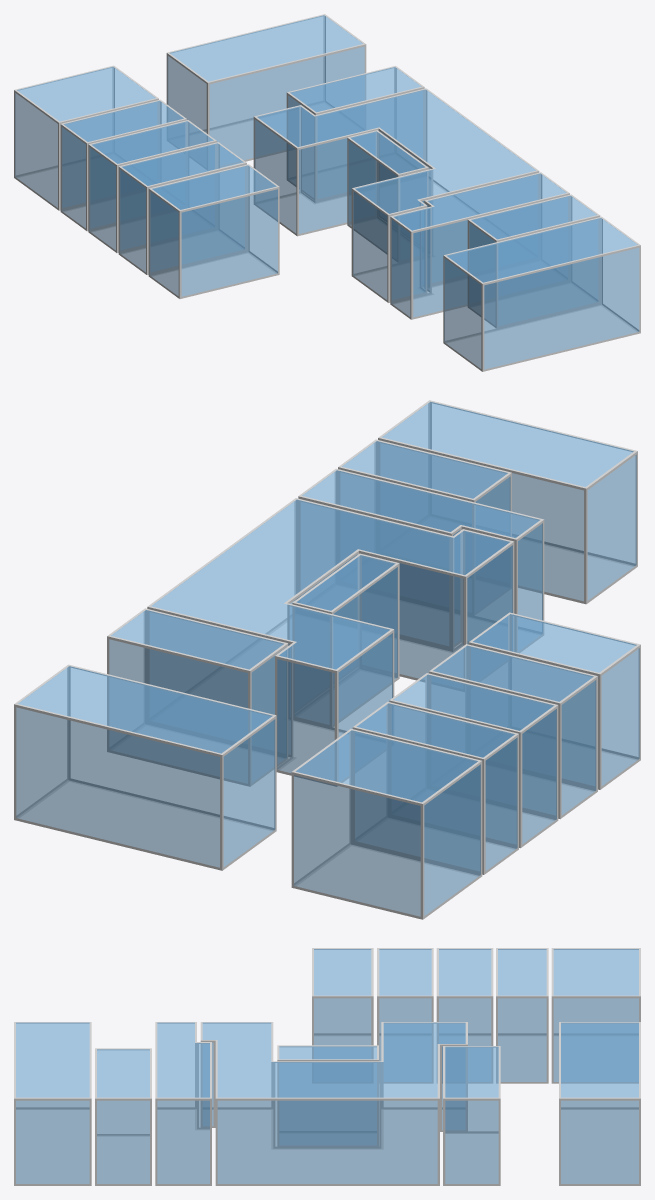
The model's file is Hospital_Selection_Boxes_SecondFloor.glb.
3 views of the same model, one above another, from view 1: azimuth 30°, elevation 25°; view 2: azimuth 150°, elevation 25°; view 3: azimuth 270°, elevation 25° (orthographic). The views are drawn at different scales.
Visible parts, largest first — view 1: Room_30, Room_33, Room_28, Room_23, Room_31, Room_32, Room_24, Room_27, Room_29, Room_25, Room_26, Room_30A; view 2: Room_30, Room_28, Room_27, Room_33, Room_31, Room_29, Room_26, Room_23, Room_24, Room_25, Room_30A, Room_32; view 3: Room_30, Room_28, Room_33, Room_27, Room_30A, Room_31, Room_29, Room_32, Room_24, Room_26, Room_23, Room_25.
Part boxes in pixels (x1,y1,x2,y2): Room_30: [253, 88, 539, 302]; Room_33: [443, 216, 640, 371]; Room_28: [166, 14, 366, 169]; Room_23: [148, 164, 279, 298]; Room_31: [390, 172, 569, 319]; Room_32: [467, 194, 600, 327]; Room_24: [118, 142, 246, 274]; Room_27: [14, 65, 158, 210]; Room_29: [286, 66, 424, 200]; Room_25: [88, 120, 216, 252]; Room_26: [60, 99, 186, 231]; Room_30A: [347, 130, 428, 261]; Room_30: [147, 498, 514, 786]; Room_28: [14, 664, 276, 870]; Room_27: [291, 728, 482, 919]; Room_33: [378, 400, 637, 604]; Room_31: [298, 468, 544, 652]; Room_29: [107, 608, 288, 786]; Room_26: [352, 701, 518, 874]; Room_23: [468, 612, 640, 789]; Room_24: [429, 644, 597, 819]; Room_25: [389, 673, 558, 848]; Room_30A: [292, 553, 399, 727]; Room_32: [338, 439, 511, 614]; Room_30: [200, 1022, 467, 1185]; Room_28: [559, 1022, 640, 1185]; Room_33: [14, 1022, 91, 1185]; Room_27: [551, 948, 640, 1083]; Room_30A: [277, 1045, 378, 1146]; Room_31: [155, 1022, 211, 1185]; Room_29: [443, 1046, 500, 1185]; Room_32: [95, 1048, 151, 1185]; Room_24: [377, 948, 433, 1083]; Room_26: [496, 948, 548, 1083]; Room_23: [312, 948, 373, 1082]; Room_25: [436, 948, 493, 1083].
Bounding box in the file's own units: 11.4 × 3.08 × 20.06.
